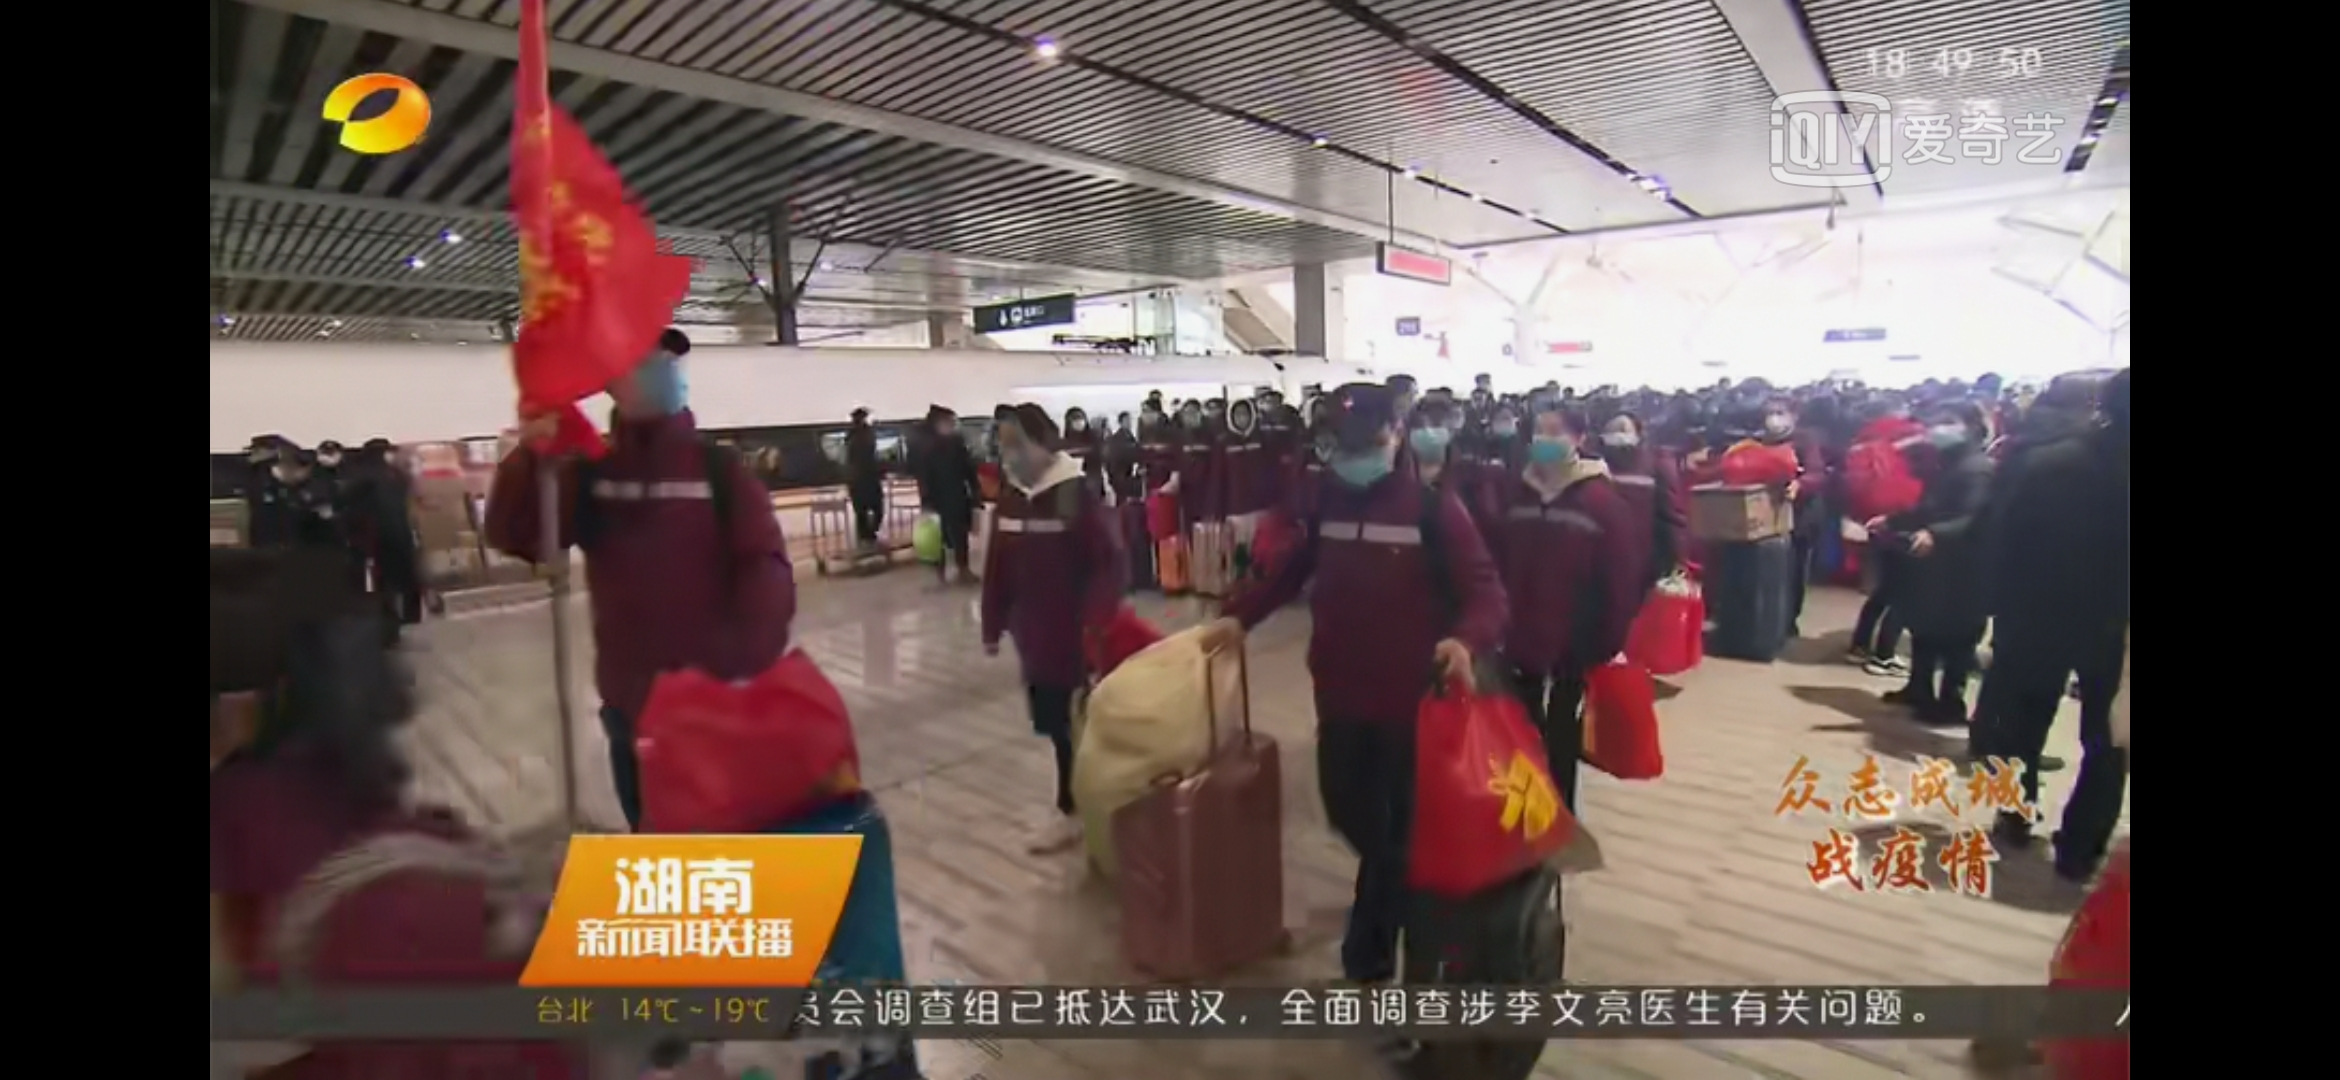correctlyWear: (613, 346, 689, 422), (1327, 434, 1398, 486), (1533, 421, 1577, 471), (1410, 418, 1454, 465), (1930, 412, 1971, 453), (1762, 406, 1795, 437)
